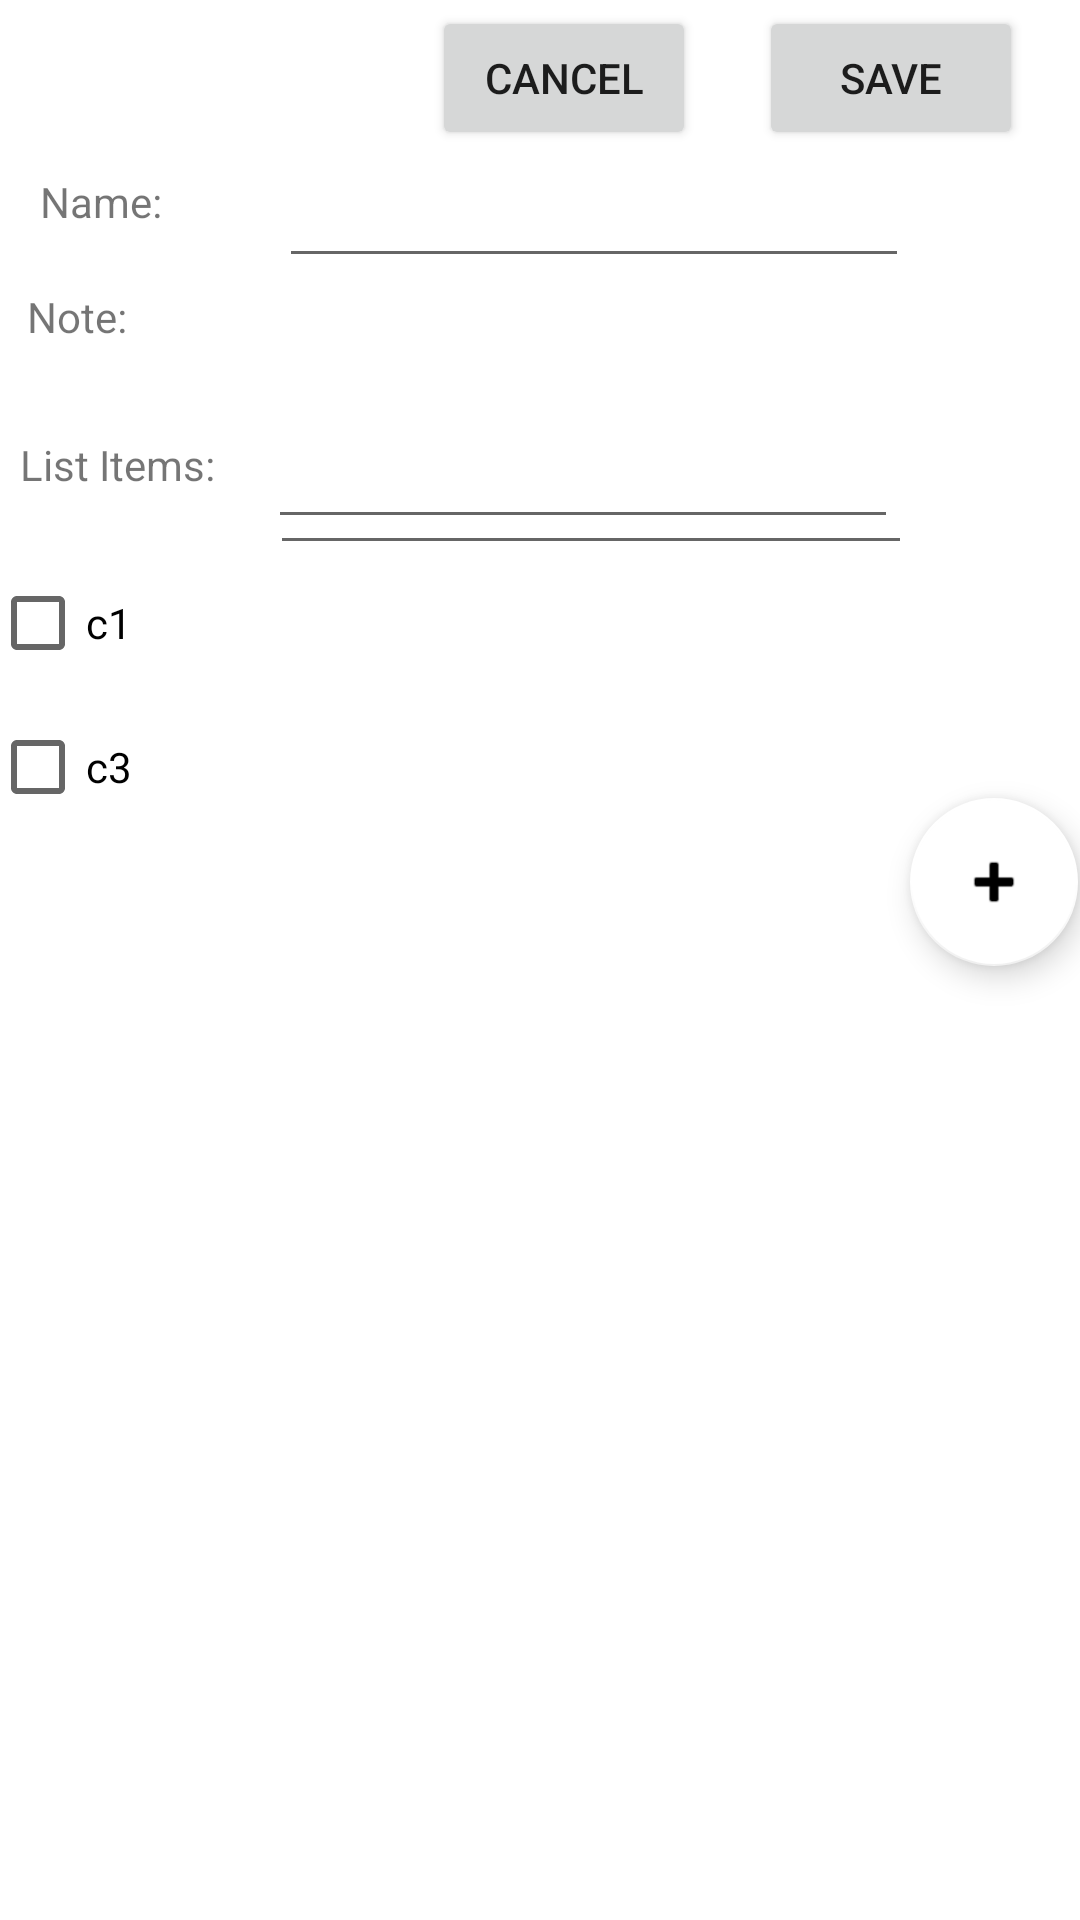

Where icons sit on this 1080x1920 app screen, as (x1, y1, x2, y2):
add: (927, 859, 1077, 938)
